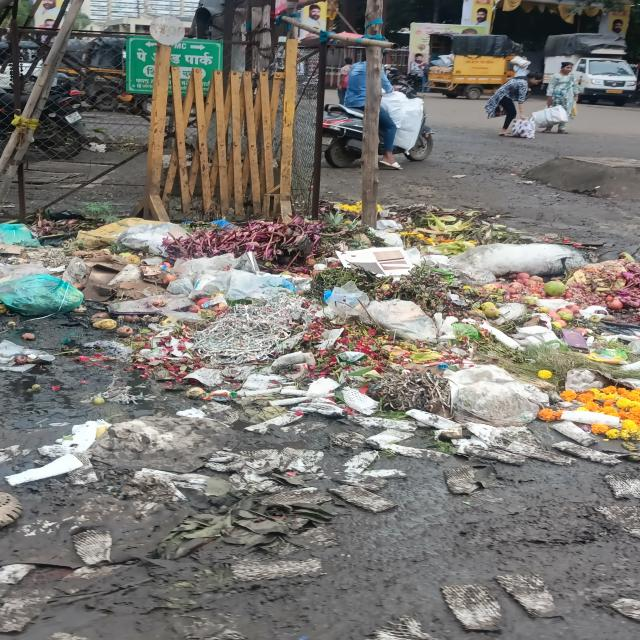garbage: (7, 210, 640, 558)
